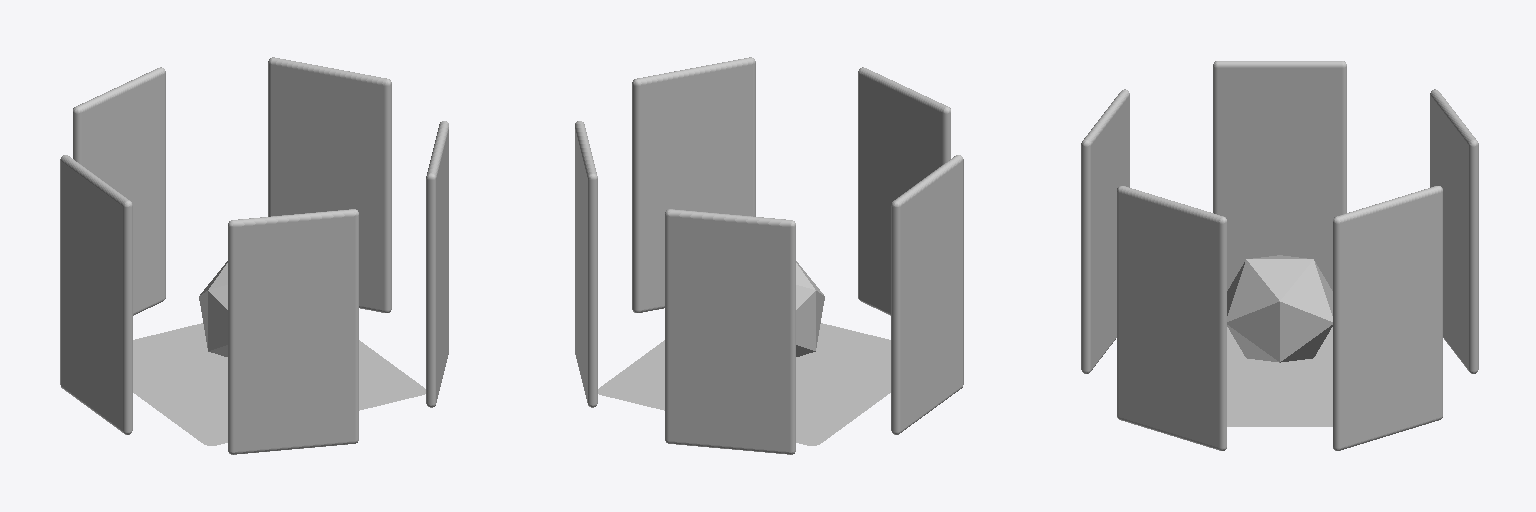
File: all.obj
The picture shows the model from 3 angles: view 1: azimuth 30°, elevation 25°; view 2: azimuth 150°, elevation 25°; view 3: azimuth 270°, elevation 25°; orthographic projection.
Parts seen in each view (by area): view 1: 001_Box, 003_Box, 000_Box, 004_Box, 006_Plane, 002_Box, 005_Polyhedron; view 2: 004_Box, 002_Box, 000_Box, 001_Box, 006_Plane, 003_Box, 005_Polyhedron; view 3: 002_Box, 003_Box, 000_Box, 001_Box, 004_Box, 005_Polyhedron, 006_Plane.
Part boxes in pixels (x1,y1,x2,y2): 001_Box: (228, 209, 358, 454); 003_Box: (268, 57, 391, 312); 000_Box: (60, 155, 132, 434); 004_Box: (73, 67, 165, 315); 006_Plane: (133, 323, 425, 445); 002_Box: (426, 121, 448, 407); 005_Polyhedron: (199, 261, 227, 356); 004_Box: (665, 209, 795, 454); 002_Box: (632, 57, 755, 312); 000_Box: (891, 155, 963, 434); 001_Box: (858, 67, 950, 315); 006_Plane: (598, 323, 890, 445); 003_Box: (575, 121, 597, 407); 005_Polyhedron: (796, 261, 824, 356); 002_Box: (1117, 186, 1226, 450); 003_Box: (1333, 186, 1442, 450); 000_Box: (1213, 61, 1346, 290); 001_Box: (1081, 89, 1129, 373); 004_Box: (1430, 89, 1478, 373); 005_Polyhedron: (1227, 255, 1332, 362); 006_Plane: (1227, 327, 1332, 426).
Bounding box in the file's own units: 147 × 100 × 154.